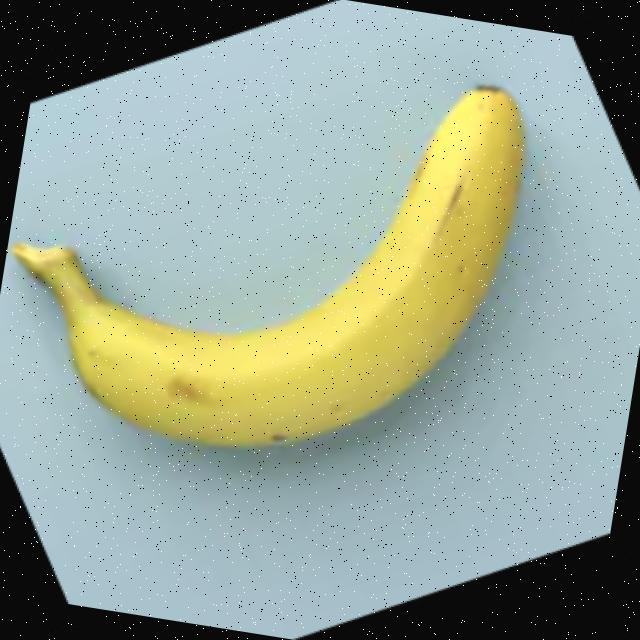Ripe: (0, 12, 541, 495)
